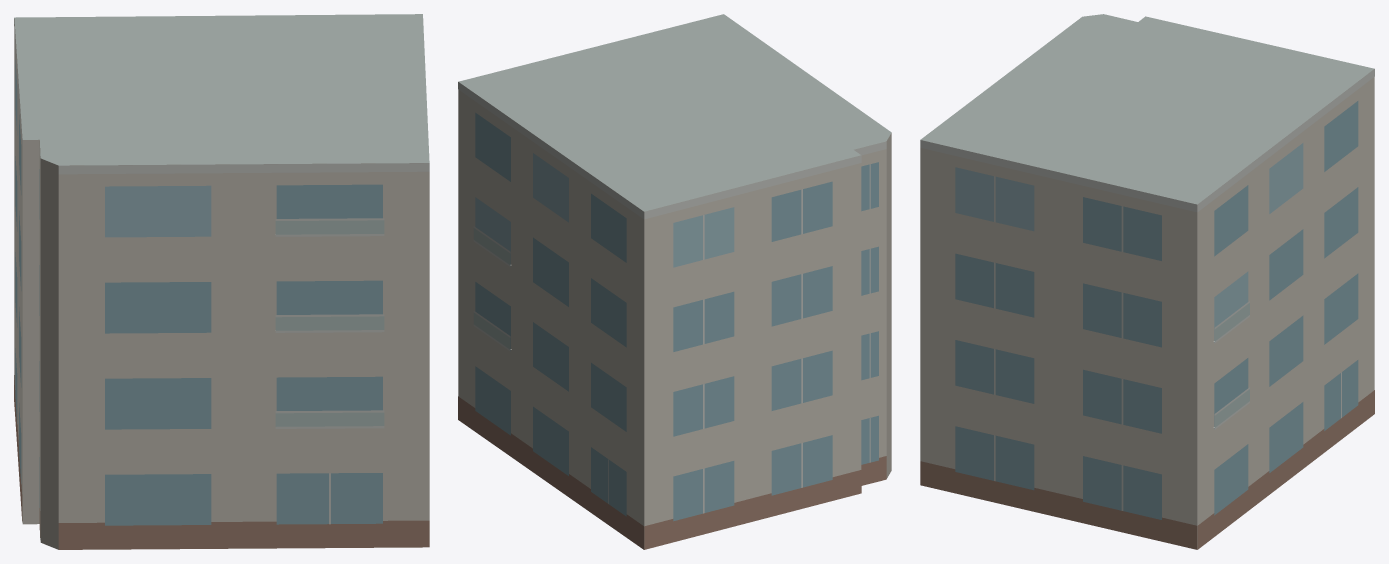
File: survey-upis-32669260.glb
3 renders of one model, left to right at view 1: azimuth 30°, elevation 25°; view 2: azimuth 150°, elevation 25°; view 3: azimuth 270°, elevation 25°, orthographic. The views are drawn at different scales.
Visible parts, largest first — view 1: survey-upis-32669260.tmp; view 2: survey-upis-32669260.tmp; view 3: survey-upis-32669260.tmp.
Part boxes in pixels (x1,y1,x2,y2): survey-upis-32669260.tmp: (14, 14, 429, 549); survey-upis-32669260.tmp: (458, 14, 891, 549); survey-upis-32669260.tmp: (920, 14, 1374, 549).
Bounding box in the file's own units: 12.67 × 10.7 × 12.77.
